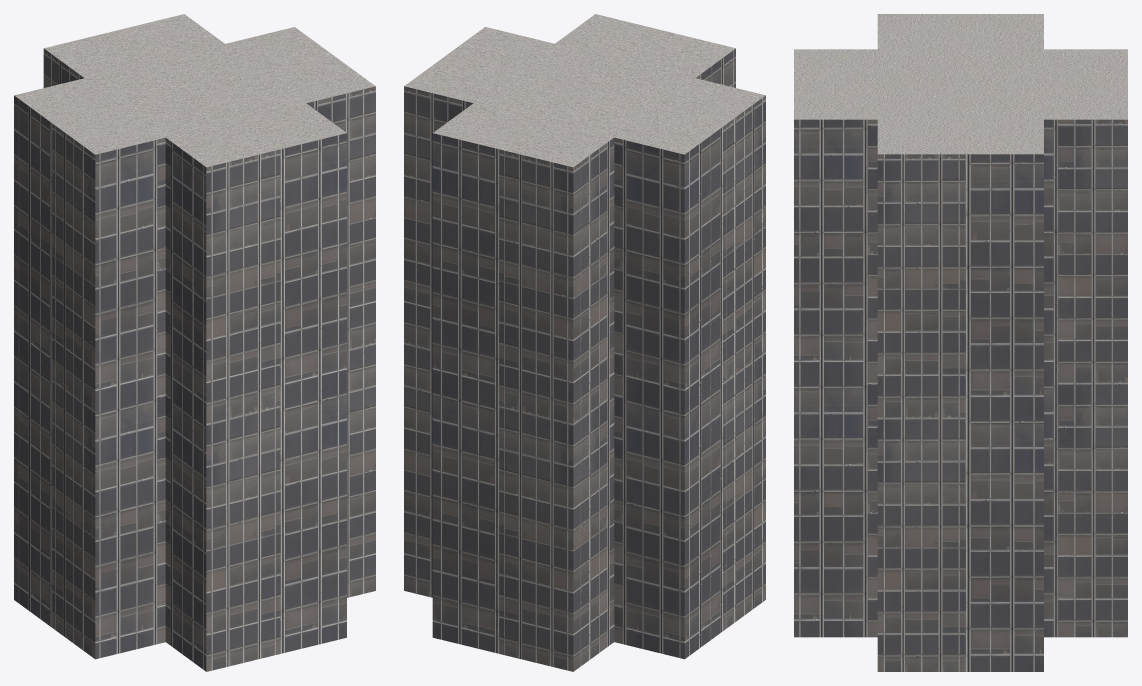
Rendered from building_019_001.glb.
3 renders of one model, left to right at view 1: azimuth 30°, elevation 25°; view 2: azimuth 150°, elevation 25°; view 3: azimuth 270°, elevation 25°, orthographic. The views are drawn at different scales.
Parts seen in each view (by area): view 1: building_019.001; view 2: building_019.001; view 3: building_019.001.
Part boxes in pixels (x1,y1,x2,y2): building_019.001: (14,14,375,671); building_019.001: (404,14,765,671); building_019.001: (794,14,1127,671).
Bounding box in the file's own units: 1397 × 2400 × 1403.
2 materials, 2 textured.
